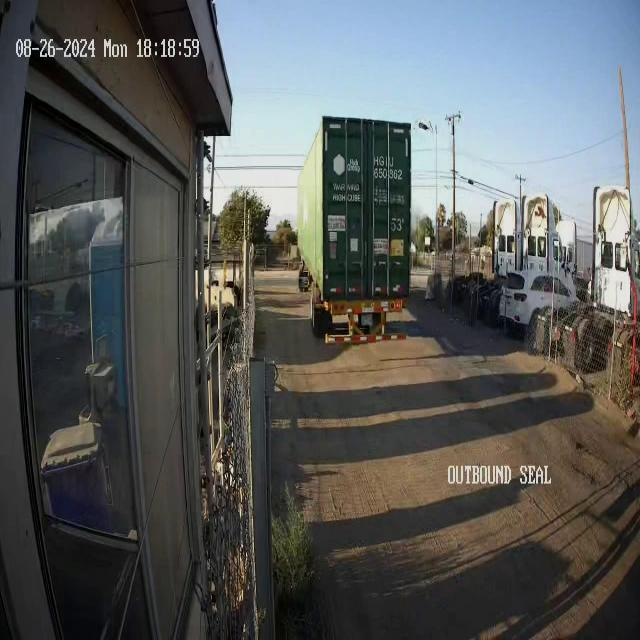CONTAINER: (297, 114, 414, 316)
